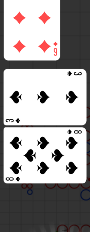3C: (5, 117, 22, 124)
6D: (53, 40, 59, 57)
8C: (5, 175, 22, 182)
